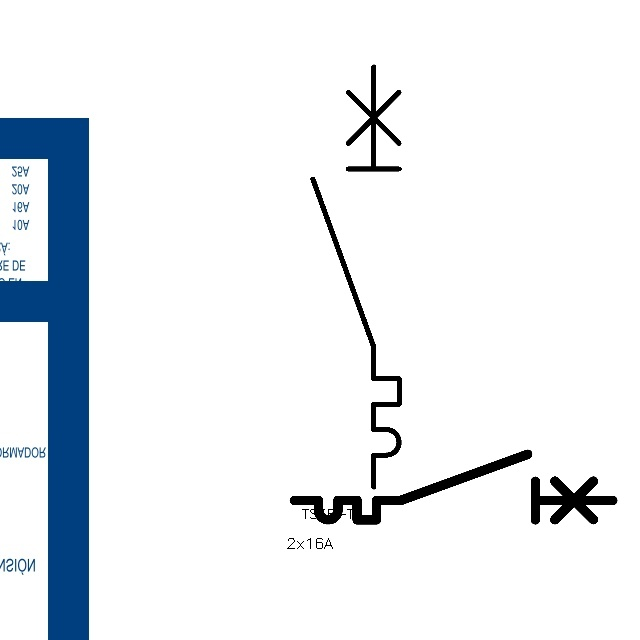interruptor_termomagnetico: (302, 56, 410, 498), (286, 446, 621, 528)
